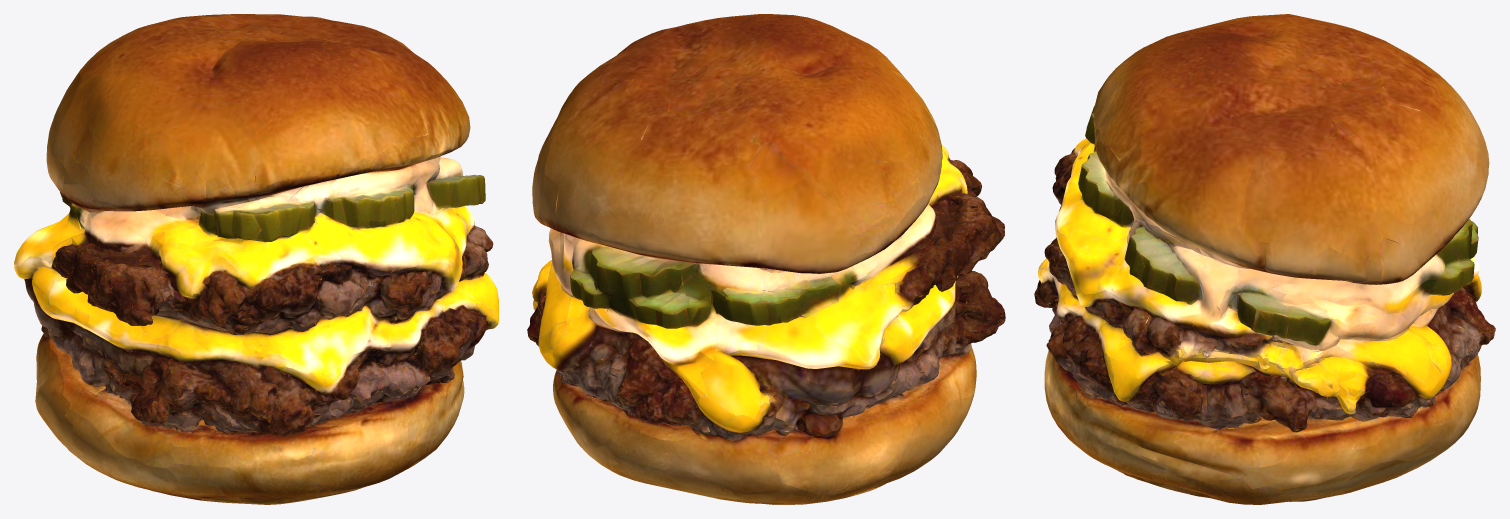
Rendered from signature-smash.glb.
3 renders of one model, left to right at view 1: azimuth 30°, elevation 25°; view 2: azimuth 150°, elevation 25°; view 3: azimuth 270°, elevation 25°, orthographic. The views are drawn at different scales.
Visible parts, largest first — view 1: dish; view 2: dish; view 3: dish.
Part boxes in pixels (<box>): dish: <box>14,14,498,504</box>; dish: <box>527,14,1005,504</box>; dish: <box>1034,14,1495,504</box>.
Bounding box in the file's own units: 0.1171 × 0.1133 × 0.12.
1 material, 1 textured.
